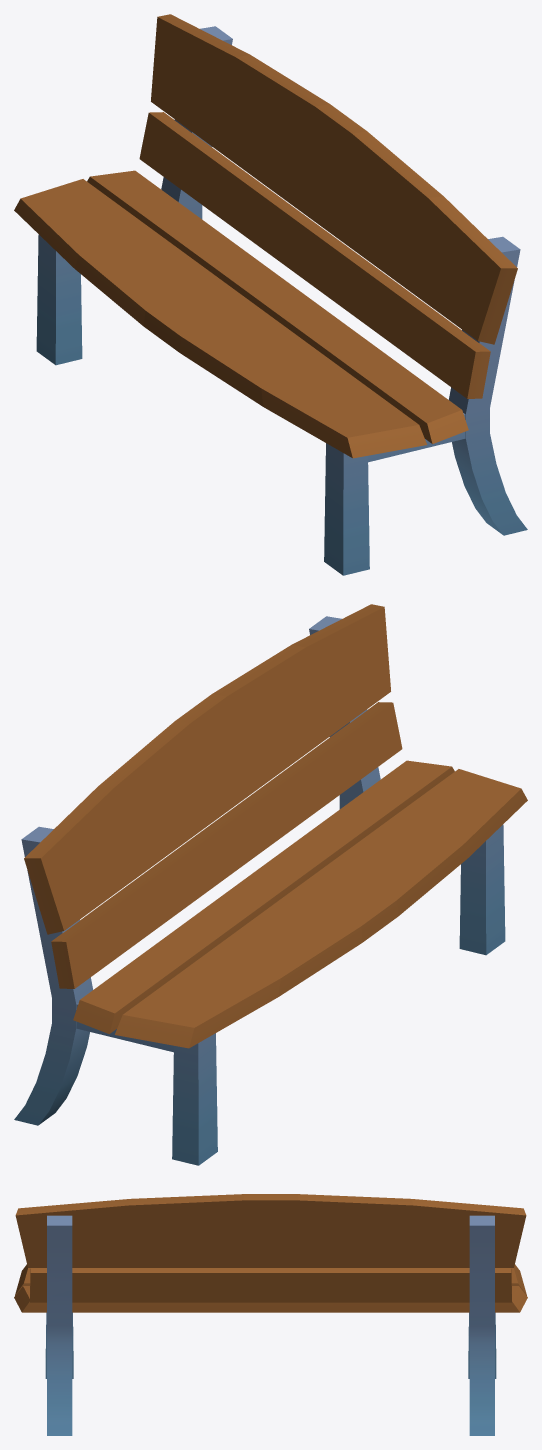
File: Bench_3_A.fbx
The picture shows the model from 3 angles, top to bottom: view 1: azimuth 30°, elevation 25°; view 2: azimuth 150°, elevation 25°; view 3: azimuth 270°, elevation 25°; orthographic projection. The views are drawn at different scales.
Parts seen in each view (by area): view 1: Bench_3_A; view 2: Bench_3_A; view 3: Bench_3_A.
Boxes of the visible parts, x1,y1,x2,y2 form: Bench_3_A: [14, 14, 527, 575]; Bench_3_A: [14, 604, 527, 1165]; Bench_3_A: [14, 1194, 527, 1435].
Size of the model in its own units: 61.52 by 84.79 by 174.
